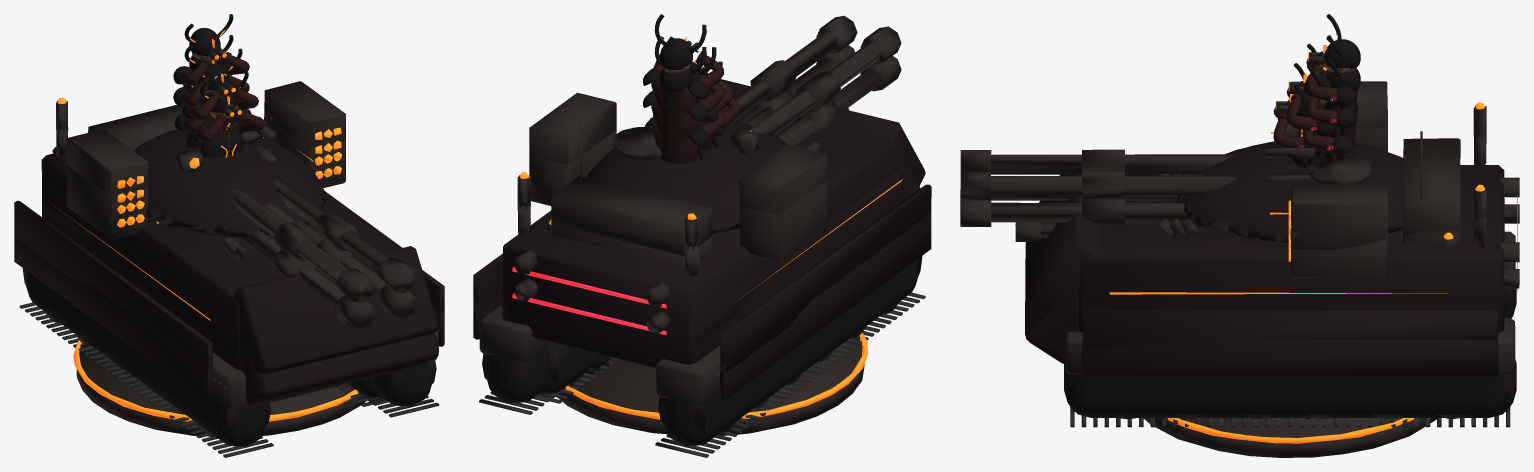
The model's file is bjoern_lava.glb.
3 views of the same model, side by side, from view 1: azimuth 30°, elevation 25°; view 2: azimuth 150°, elevation 25°; view 3: azimuth 270°, elevation 25° (orthographic). The views are drawn at different scales.
Parts seen in each view (by area): view 1: op4.001_net, ned4_net, fod_net, ned1_net, op4_net, ned2.003_net, ned2_net, op4.002_net, ned3.002_net, ned4.002_net, ned1.002_net, ned2.002_net (+1 smaller); view 2: op4.001_net, ned4_net, fod_net, ned3.002_net, op4_net, ned4.002_net, op4.002_net, ned3_net, ned4.001_net, ned2_net, ned1_net; view 3: op4.001_net, ned4_net, fod_net, ned2_net, op4_net, op4.002_net, ned4.002_net, ned2.003_net, ned1_net, ned3_net, ned3.002_net, ned4.001_net.
Boxes of the visible parts, box(x1,y1,x2,y2) form: op4.001_net: box(14, 81, 444, 409); ned4_net: box(14, 117, 444, 457); fod_net: box(73, 340, 365, 436); ned1_net: box(188, 103, 264, 157); op4_net: box(173, 46, 249, 104); ned2.003_net: box(182, 81, 258, 148); ned2_net: box(195, 48, 315, 260); op4.002_net: box(184, 14, 233, 63); ned3.002_net: box(264, 306, 384, 430); ned4.002_net: box(173, 73, 249, 106); ned1.002_net: box(200, 71, 248, 123); ned2.002_net: box(194, 48, 242, 93); op4.001_net: box(473, 15, 931, 406); ned4_net: box(473, 45, 931, 457); fod_net: box(558, 333, 867, 435); ned3.002_net: box(536, 108, 848, 429); op4_net: box(643, 45, 723, 163); ned4.002_net: box(643, 74, 723, 151); op4.002_net: box(654, 14, 706, 73); ned3_net: box(644, 111, 725, 161); ned4.001_net: box(654, 36, 706, 92); ned2_net: box(547, 106, 822, 385); ned1_net: box(702, 98, 740, 150); op4.001_net: box(960, 81, 1519, 374); ned4_net: box(960, 110, 1519, 427); fod_net: box(1143, 418, 1436, 457); ned2_net: box(1155, 131, 1425, 419); op4_net: box(1306, 51, 1358, 156); op4.002_net: box(1320, 14, 1360, 79); ned4.002_net: box(1306, 95, 1358, 153); ned2.003_net: box(1286, 81, 1335, 158); ned1_net: box(1273, 100, 1321, 168); ned3_net: box(1303, 130, 1355, 160); ned3.002_net: box(1015, 222, 1454, 246); ned4.001_net: box(1323, 38, 1360, 90).
Bounding box in the file's own units: 1.94 × 2.34 × 3.24.
